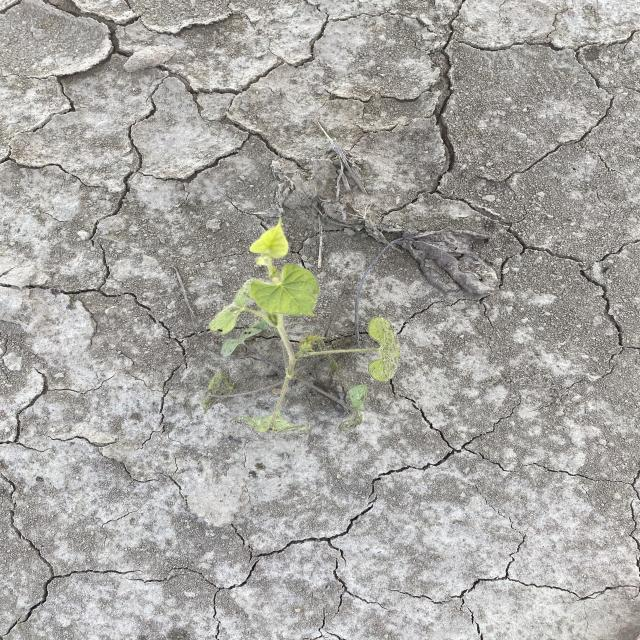MorningGlory: (198, 212, 406, 437)
